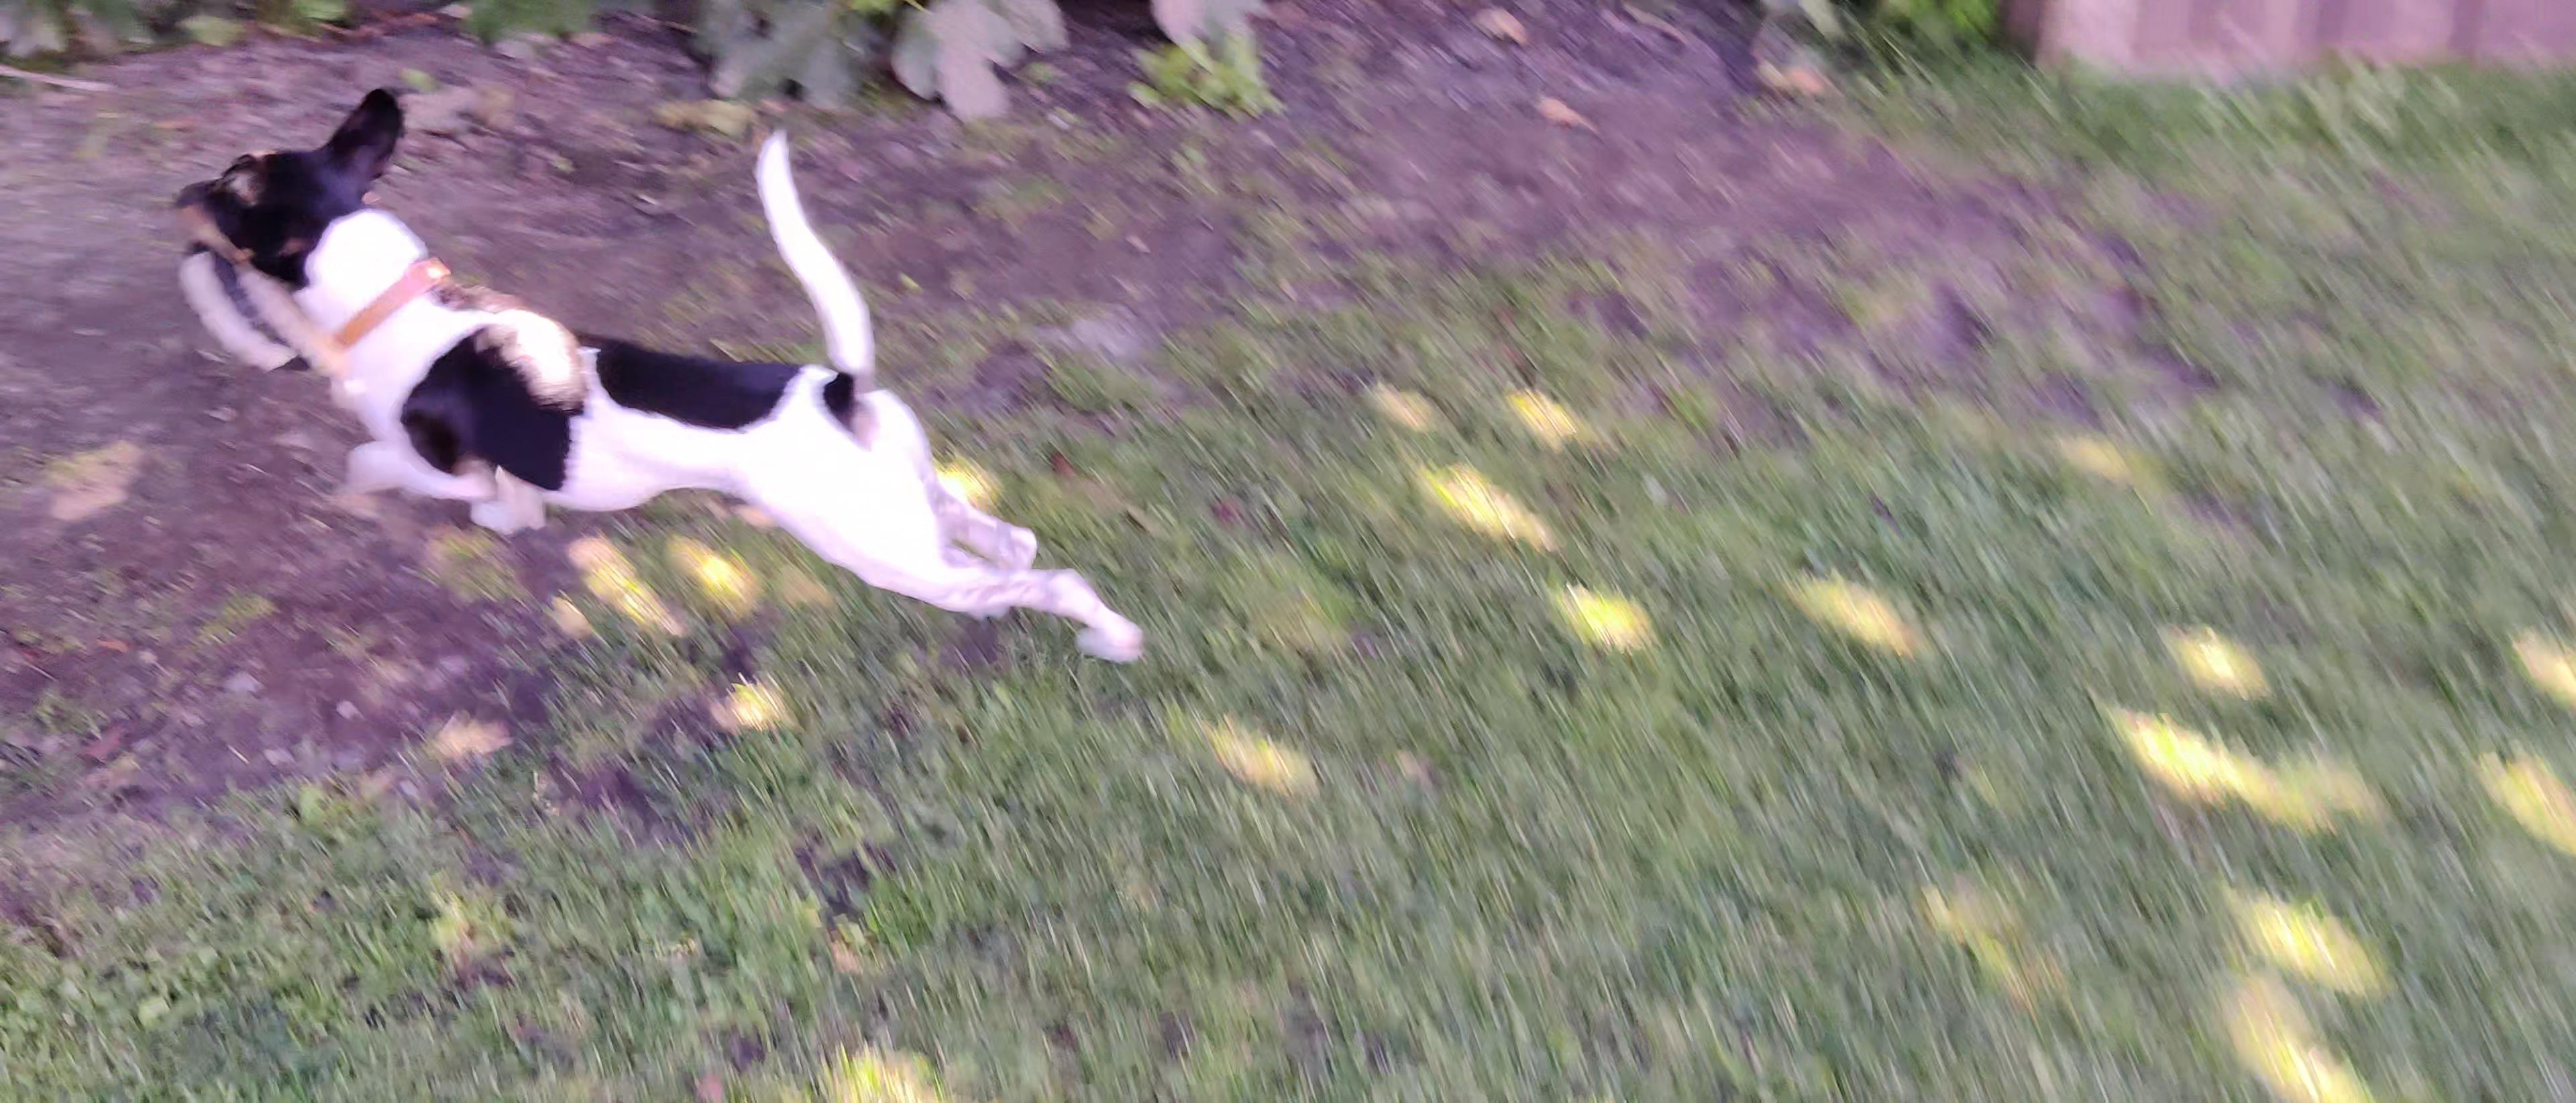Dog: (149, 85, 1152, 666)
